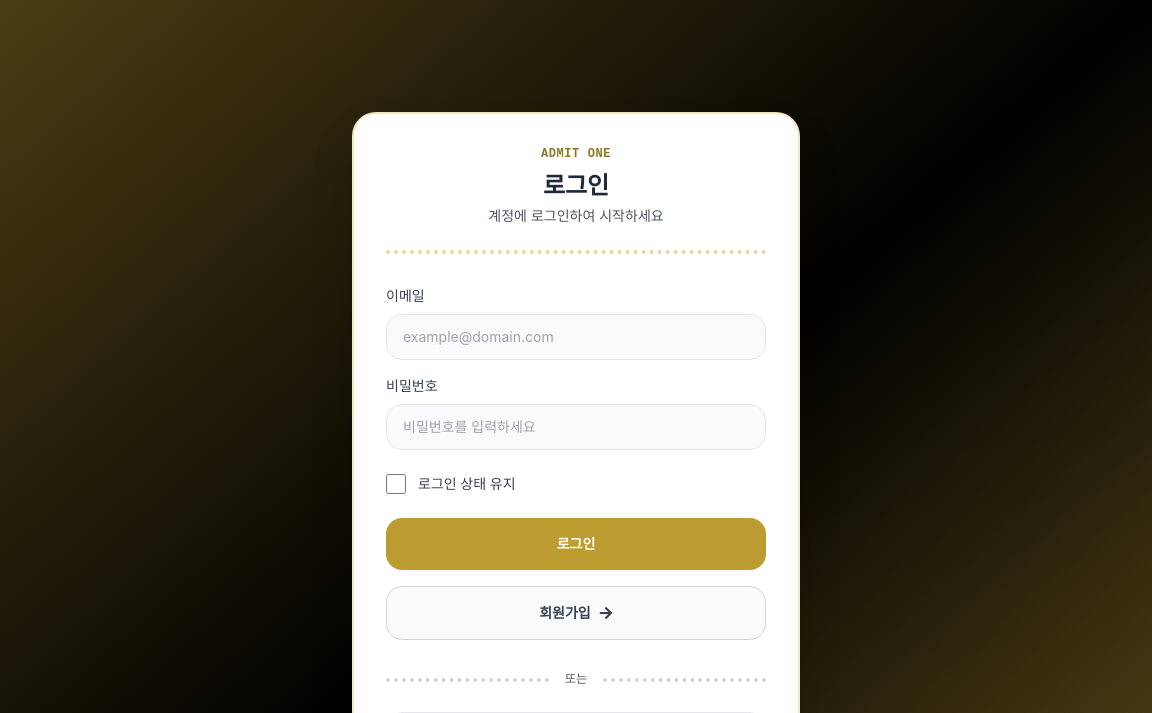
Test: LoginPage 컴포넌트 › 로딩 상태 및 접근성 › 로딩 중일 때 폼 입력이 비활성화되어야 한다
In the field labelled "이메일": (576, 337) [386,314,766,360], type "test@example.com"
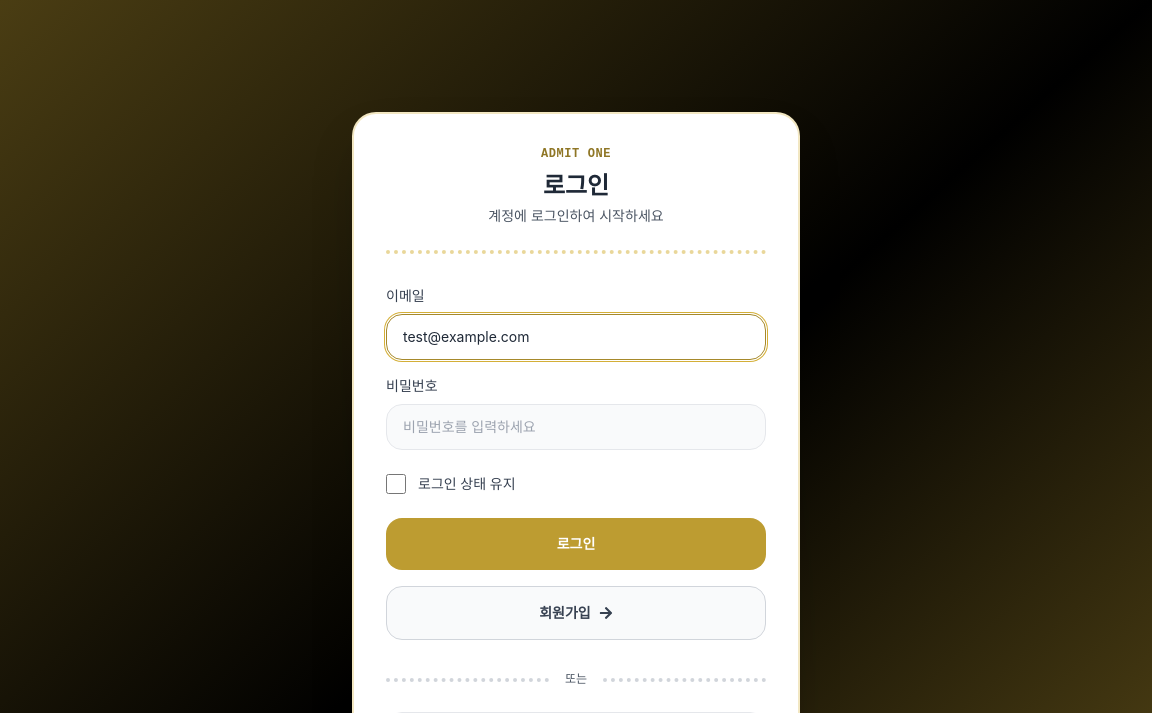
In the password field labelled "비밀번호": (576, 427) [386,404,766,450], type "password123"
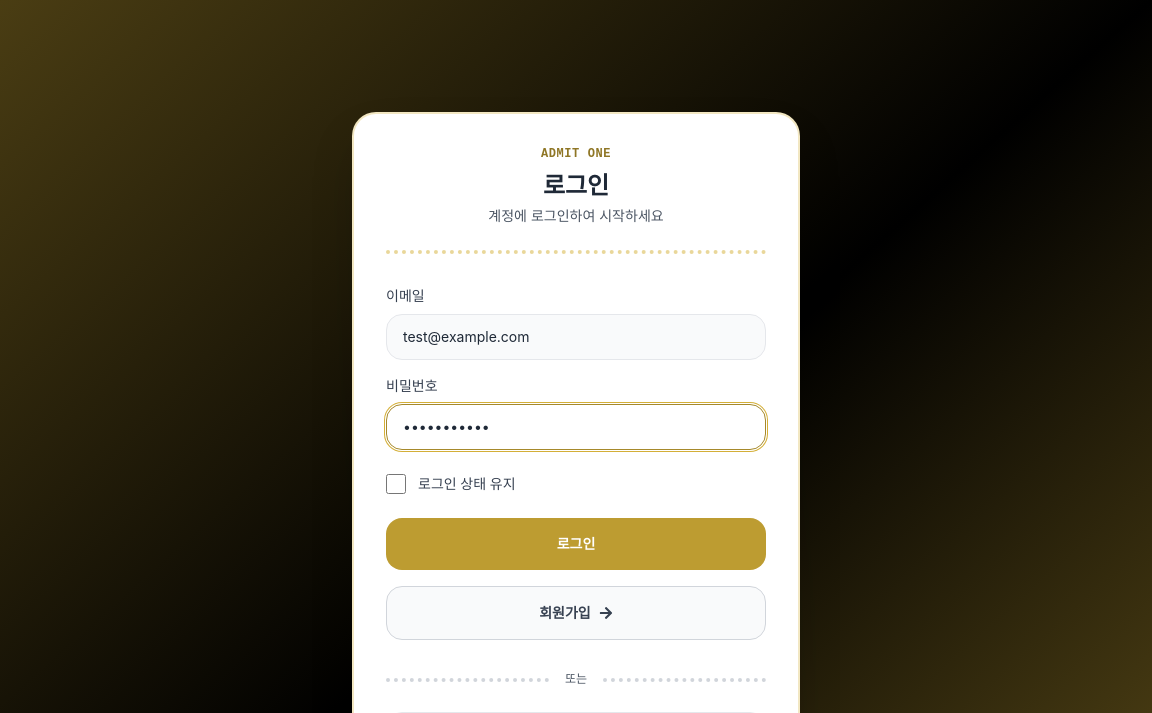
로그인 버튼 클릭
Click the button "로그인": (576, 544) [386,518,766,570]
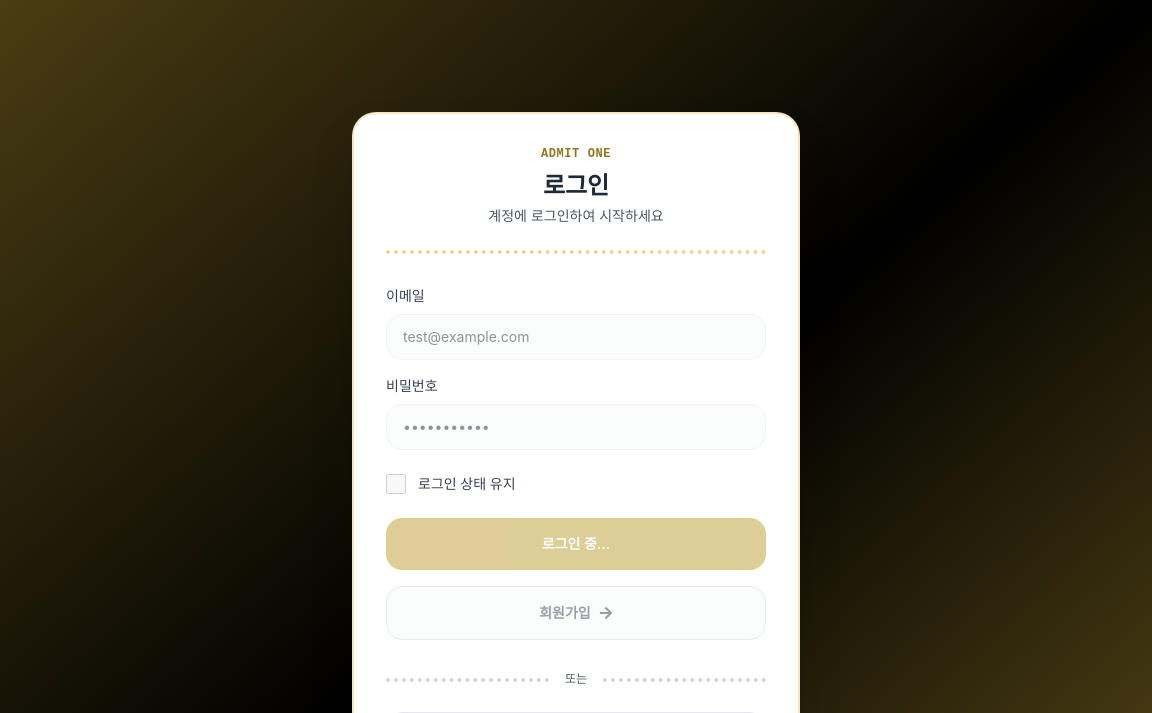
Expected: the field labelled "이메일" is disabled, [386,314,766,360]
Expected: the password field labelled "비밀번호" is disabled, [386,404,766,450]
Expected: the button "로그인 중..." is disabled, [386,518,766,570]
